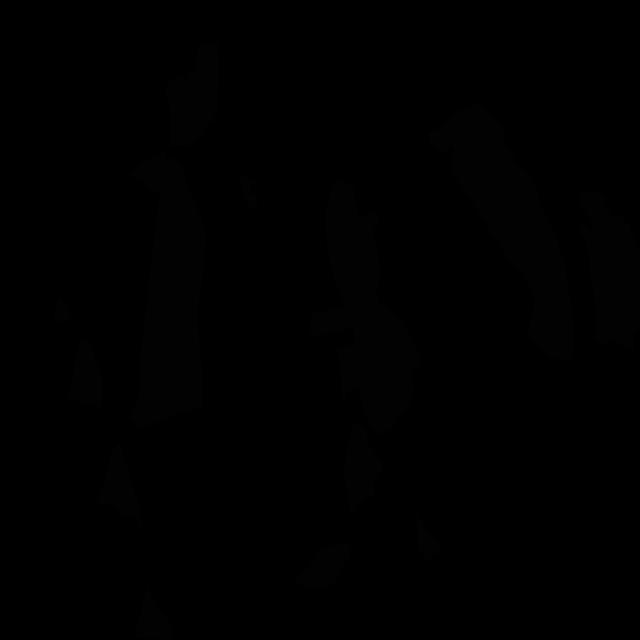cardboard: (428, 103, 574, 361), (309, 179, 421, 435), (128, 152, 206, 430), (577, 191, 640, 352), (95, 444, 142, 535), (343, 420, 384, 518), (186, 41, 219, 137), (292, 543, 352, 590), (165, 73, 201, 147), (68, 336, 103, 408), (136, 585, 172, 640), (416, 512, 440, 563), (240, 176, 258, 211), (54, 293, 74, 321)
